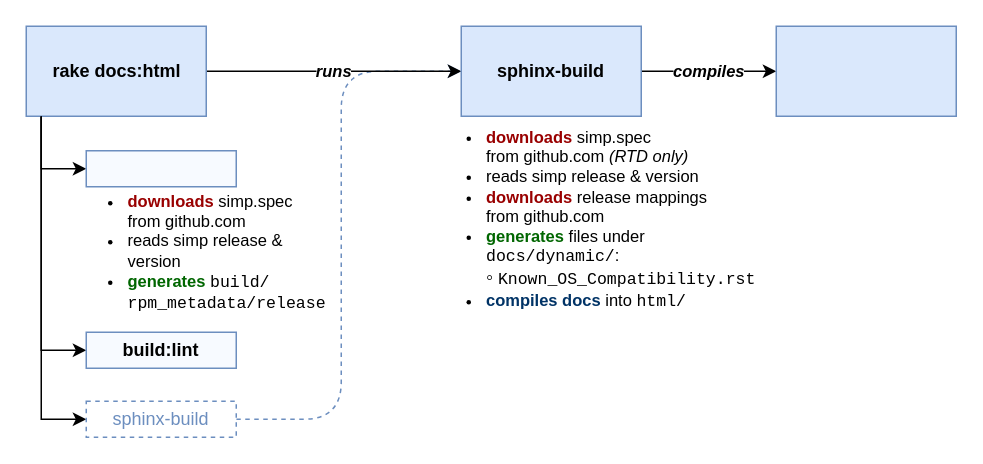
This 983x464 diagram has some shape labels left out. The box of each missing label's shape, as (x1, y1, x2, y2) in pixels:
Documentation Files: (775, 25, 956, 116)
munge:prep: (85, 149, 236, 187)
